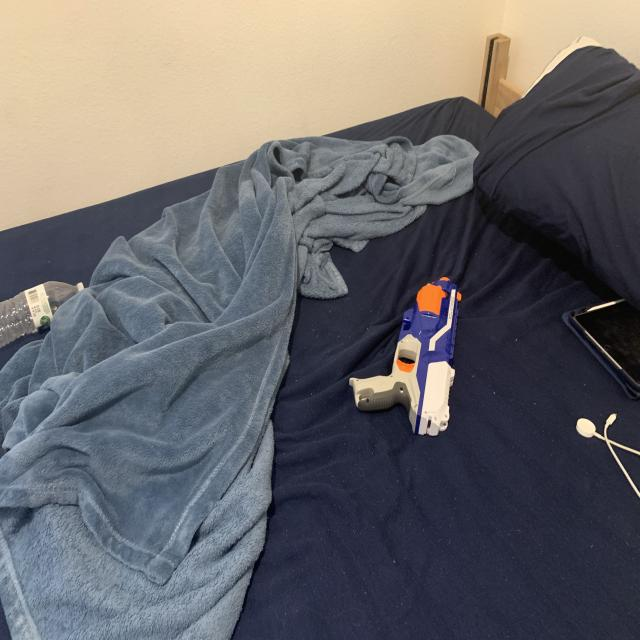nerf-maverik: (336, 266, 473, 449)
